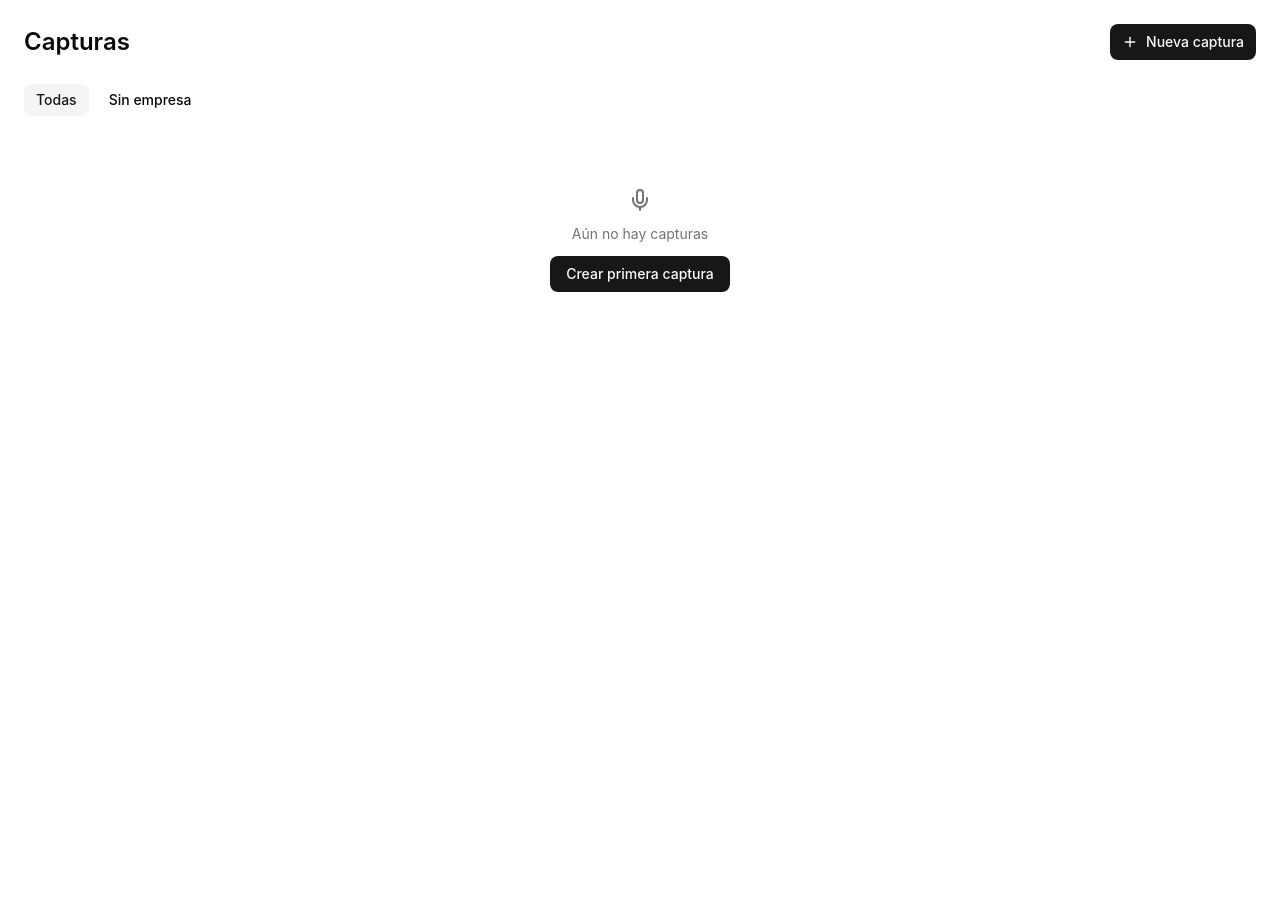
Test: CapturesPage › listing › shows the empty state with "Aún no hay capturas" and a working "Crear primera captura" CTA
Expected: the text "Aún no hay capturas" is shown, [572, 224, 708, 244]
Click the button "Crear primera captura": x=640, y=274 [550, 256, 730, 292]
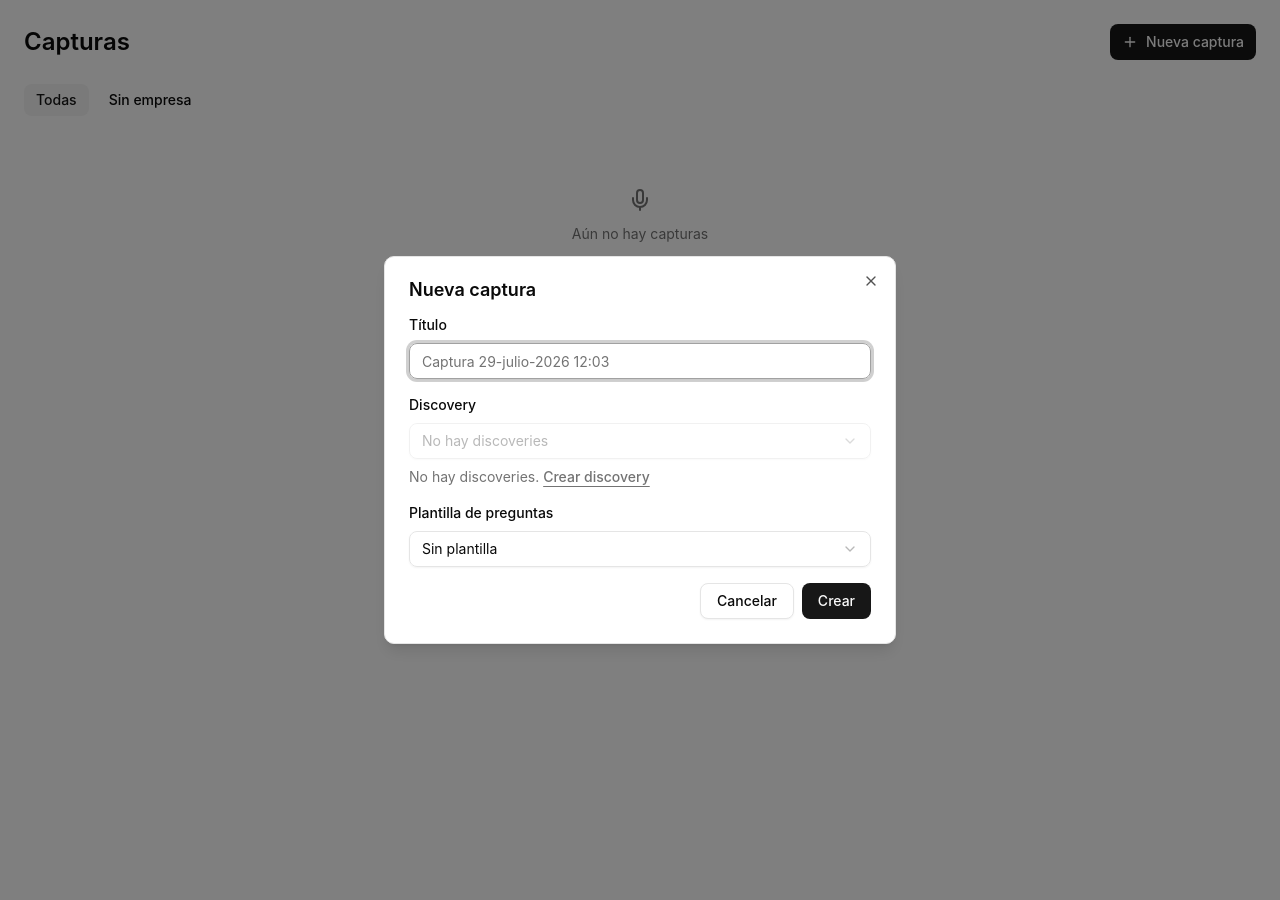
Expected: the dialog with test id "new-capture-dialog" is shown, [384, 256, 896, 644]
Expected: the heading "Nueva captura" is shown, [409, 279, 536, 300]
